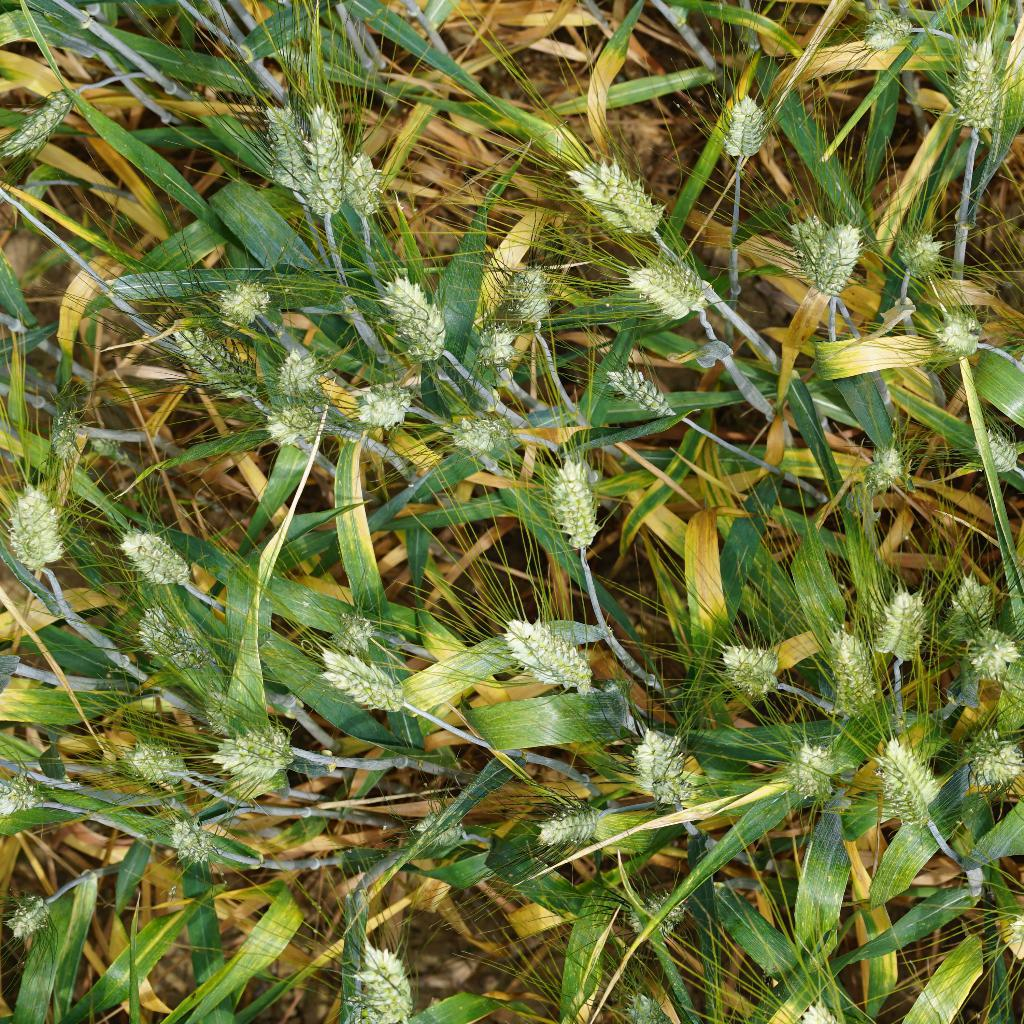0-0: (553, 137, 665, 246), (486, 615, 597, 713), (544, 438, 620, 570), (298, 651, 425, 724), (318, 940, 424, 1024), (0, 71, 79, 180), (4, 475, 77, 591), (369, 265, 444, 369), (169, 313, 251, 406), (935, 36, 1012, 134), (105, 522, 205, 595), (869, 735, 942, 832), (818, 613, 889, 707), (268, 326, 331, 428), (870, 567, 933, 669), (594, 362, 688, 430), (303, 101, 359, 215), (198, 712, 301, 773), (108, 714, 191, 789), (149, 804, 236, 875), (701, 82, 777, 163), (844, 434, 925, 509), (617, 253, 705, 322), (776, 735, 848, 819), (717, 631, 798, 703), (953, 722, 1024, 802), (130, 600, 204, 673), (624, 709, 694, 784), (624, 876, 711, 936), (32, 380, 94, 464), (526, 800, 619, 854), (813, 206, 864, 302), (205, 264, 277, 329), (311, 595, 396, 650), (926, 295, 990, 367), (393, 802, 479, 855), (959, 619, 1021, 691), (3, 874, 59, 953), (501, 250, 556, 326), (443, 406, 515, 464), (343, 372, 414, 430), (339, 142, 391, 220), (851, 0, 922, 52), (776, 198, 830, 266), (264, 107, 306, 193), (955, 560, 1008, 627), (885, 224, 952, 276), (967, 425, 1024, 482), (0, 772, 56, 829), (474, 314, 520, 377), (621, 989, 671, 1024)
